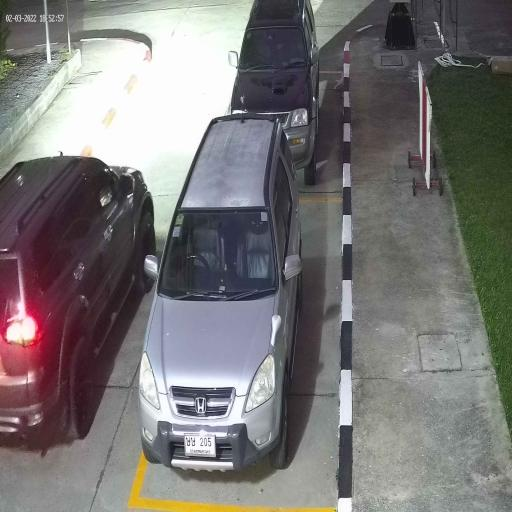car: (137, 111, 304, 473), (0, 153, 158, 447), (229, 0, 321, 185)
